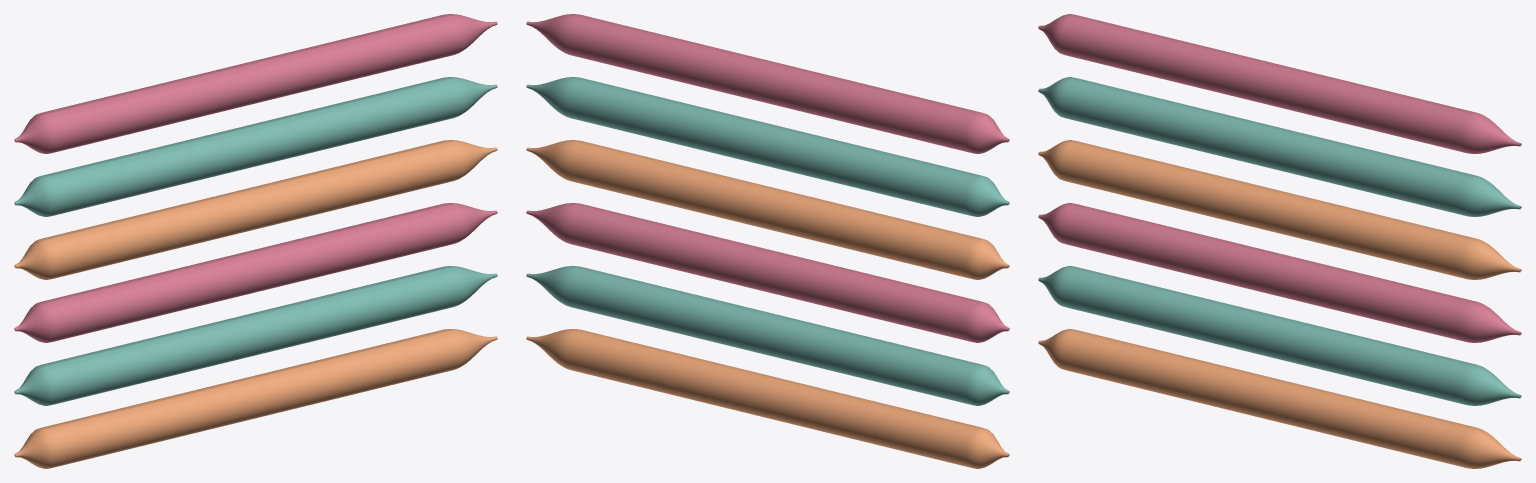
The model's file is terrazzo-tile.obj.
3 views of the same model, side by side, from view 1: azimuth 30°, elevation 25°; view 2: azimuth 150°, elevation 25°; view 3: azimuth 330°, elevation 25° (orthographic).
Parts seen in each view (by area): view 1: Terrazzo_band_2, Terrazzo_band_3, Terrazzo_band_5, Terrazzo_band_4, Terrazzo_band_1, Terrazzo_band_6; view 2: Terrazzo_band_2, Terrazzo_band_3, Terrazzo_band_5, Terrazzo_band_4, Terrazzo_band_1, Terrazzo_band_6; view 3: Terrazzo_band_5, Terrazzo_band_2, Terrazzo_band_4, Terrazzo_band_3, Terrazzo_band_1, Terrazzo_band_6.
Boxes of the visible parts, bbox=[...] form: Terrazzo_band_2: bbox=[14, 266, 497, 405]; Terrazzo_band_3: bbox=[14, 203, 497, 342]; Terrazzo_band_5: bbox=[14, 77, 497, 216]; Terrazzo_band_4: bbox=[14, 140, 497, 279]; Terrazzo_band_1: bbox=[14, 329, 497, 468]; Terrazzo_band_6: bbox=[14, 14, 497, 153]; Terrazzo_band_2: bbox=[526, 266, 1009, 405]; Terrazzo_band_3: bbox=[526, 203, 1009, 342]; Terrazzo_band_5: bbox=[526, 77, 1009, 216]; Terrazzo_band_4: bbox=[526, 140, 1009, 279]; Terrazzo_band_1: bbox=[526, 329, 1009, 468]; Terrazzo_band_6: bbox=[526, 14, 1009, 153]; Terrazzo_band_5: bbox=[1038, 77, 1521, 216]; Terrazzo_band_2: bbox=[1038, 266, 1521, 405]; Terrazzo_band_4: bbox=[1038, 140, 1521, 279]; Terrazzo_band_3: bbox=[1038, 203, 1521, 342]; Terrazzo_band_1: bbox=[1038, 329, 1521, 468]; Terrazzo_band_6: bbox=[1038, 14, 1521, 153].
Size of the model in its own units: 0.36 by 0.252 by 0.027.
